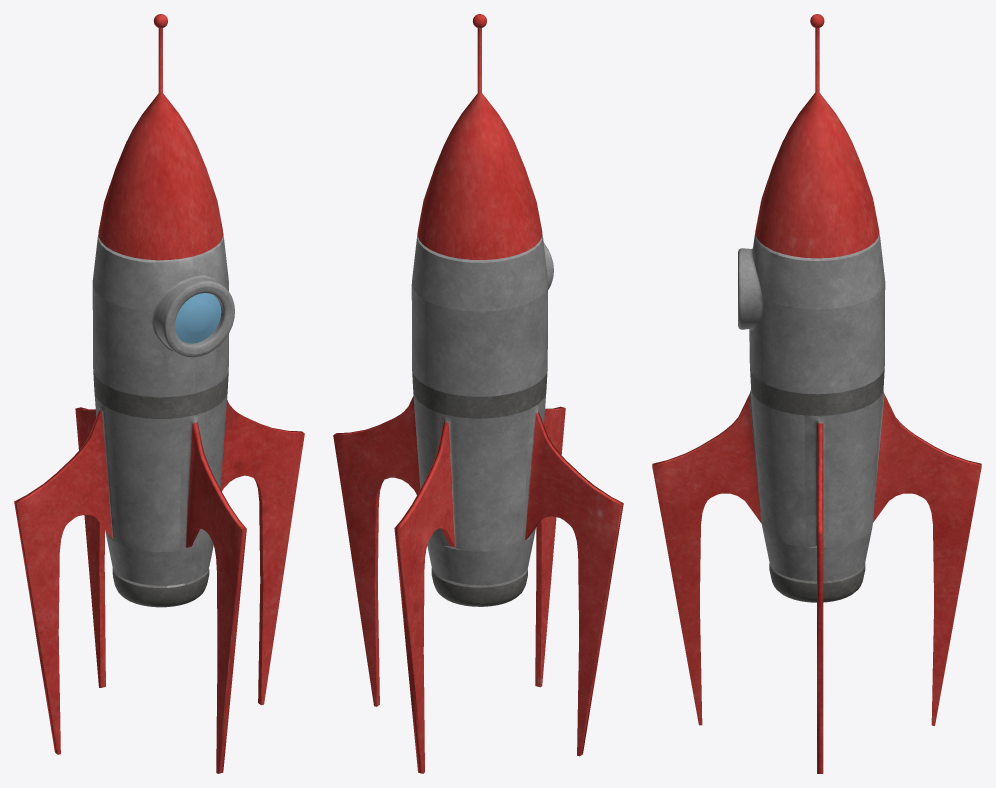
Rendered from rocket.fbx.
3 renders of one model, left to right at view 1: azimuth 30°, elevation 25°; view 2: azimuth 150°, elevation 25°; view 3: azimuth 270°, elevation 25°, orthographic.
Parts seen in each view (by area): view 1: SpaceShip; view 2: SpaceShip; view 3: SpaceShip.
Part boxes in pixels (left/top/right/bottom): SpaceShip: left=14, top=14, right=304, bottom=773; SpaceShip: left=333, top=14, right=623, bottom=773; SpaceShip: left=652, top=14, right=981, bottom=773.
Bounding box in the file's own units: 1.39 × 3.3 × 1.39.
